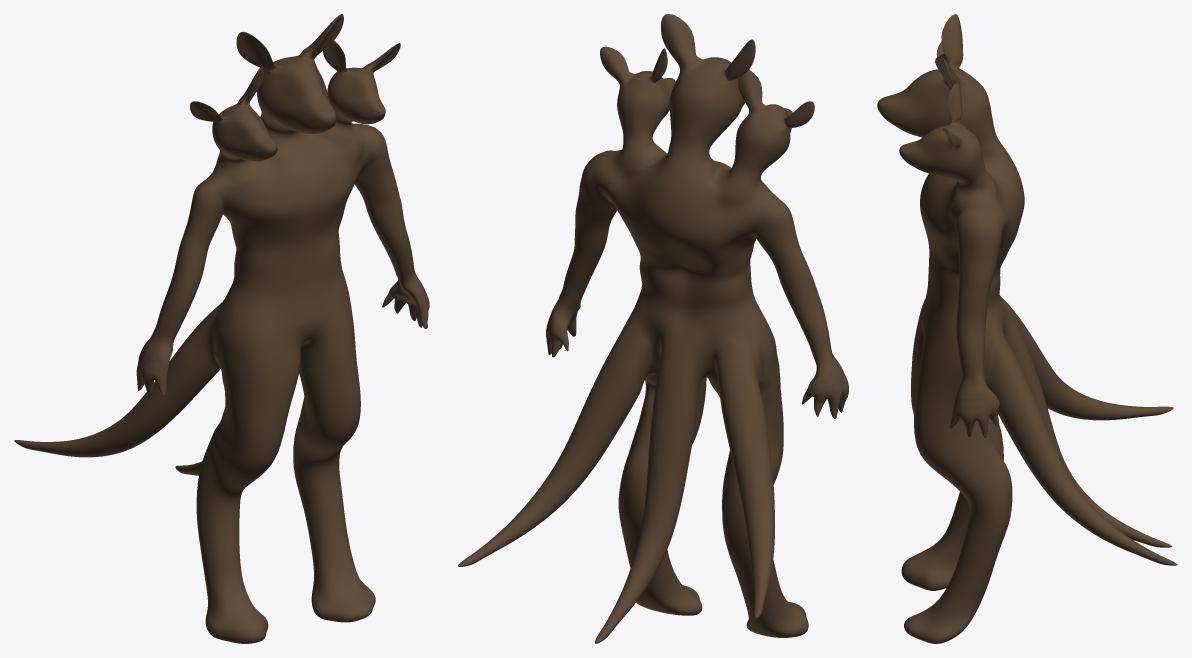
Rendered from CerbeRoo.fbx.
The picture shows the model from 3 angles, left to right: view 1: azimuth 30°, elevation 25°; view 2: azimuth 150°, elevation 25°; view 3: azimuth 270°, elevation 25°; orthographic projection. The views are drawn at different scales.
Visible parts, largest first — view 1: UberRooChamp; view 2: UberRooChamp; view 3: UberRooChamp.
Boxes of the visible parts, box(x1,y1,x2,y2) form: UberRooChamp: box(14, 14, 429, 643); UberRooChamp: box(458, 14, 848, 643); UberRooChamp: box(877, 14, 1177, 643).
Bounding box in the file's own units: 4.29 × 7.91 × 3.73.
